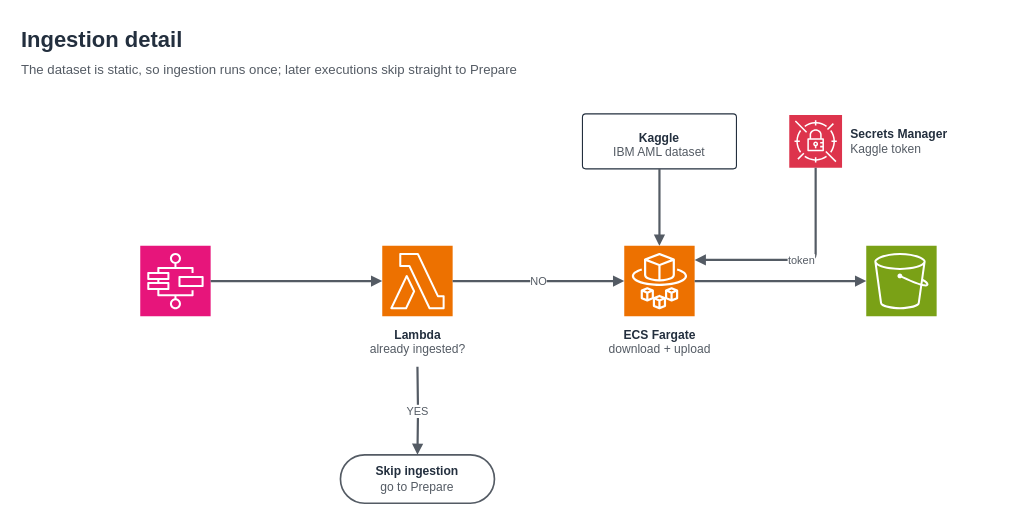
This 1027x523 diagram has some shape labels left out. The shapes that lost their labels are listed below. From the top down, each one's box as (x1, y1, x2, y2) in pixels, then its label:
(139, 245, 211, 316): Step Functions start pipeline
(865, 245, 937, 316): S3 raw zone HI-Medium_Trans.csv HI-Medium_Patterns.txt HI-Medium_accounts.csv
